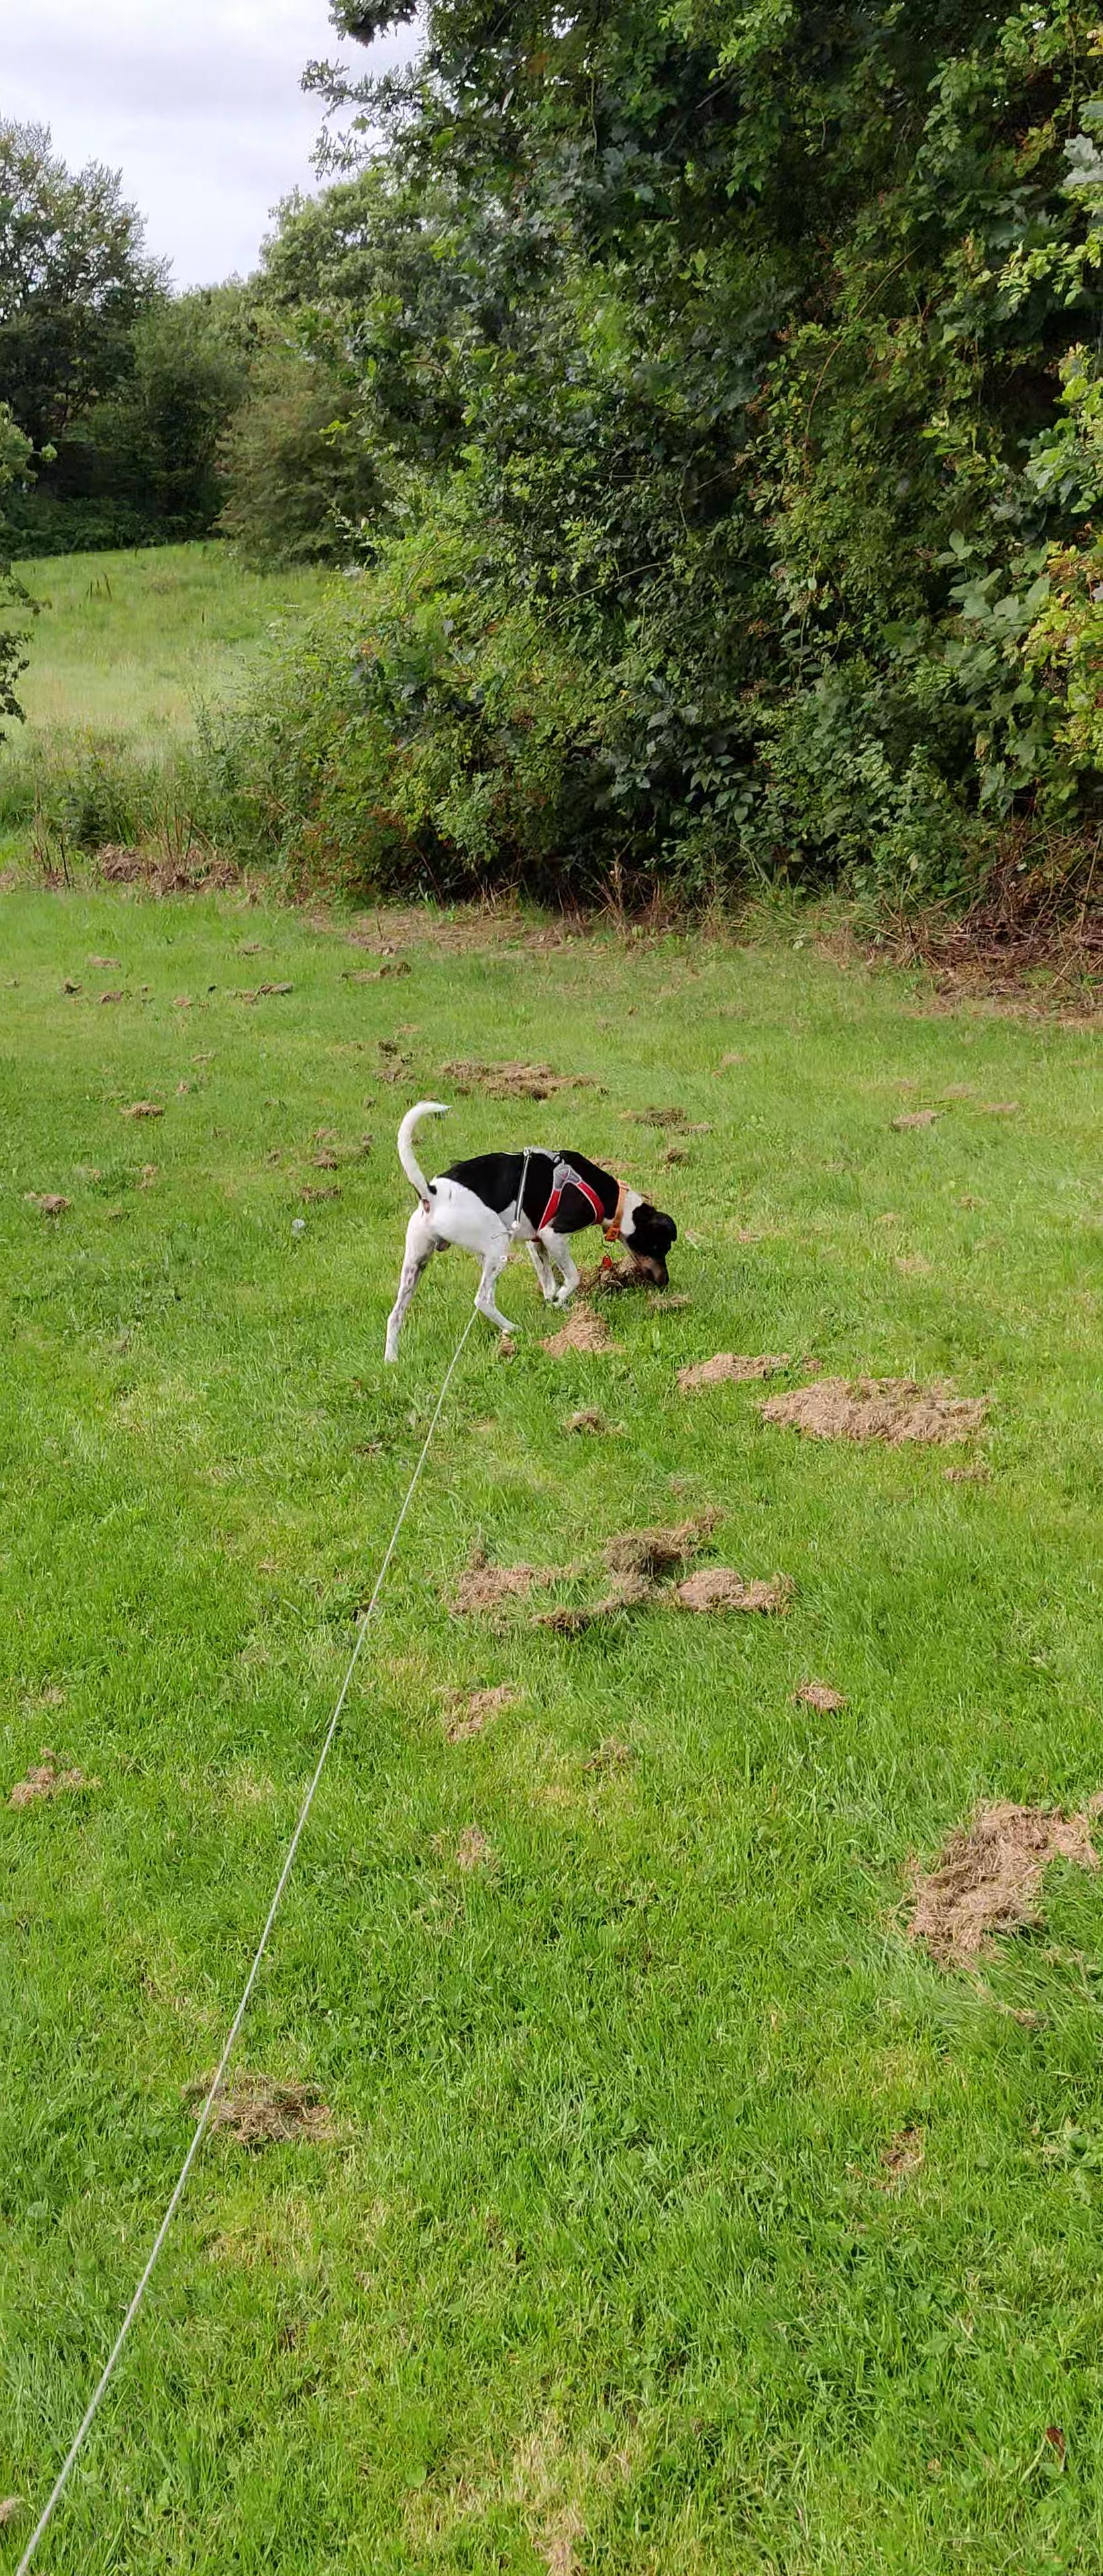Dog: (370, 1083, 687, 1380)
